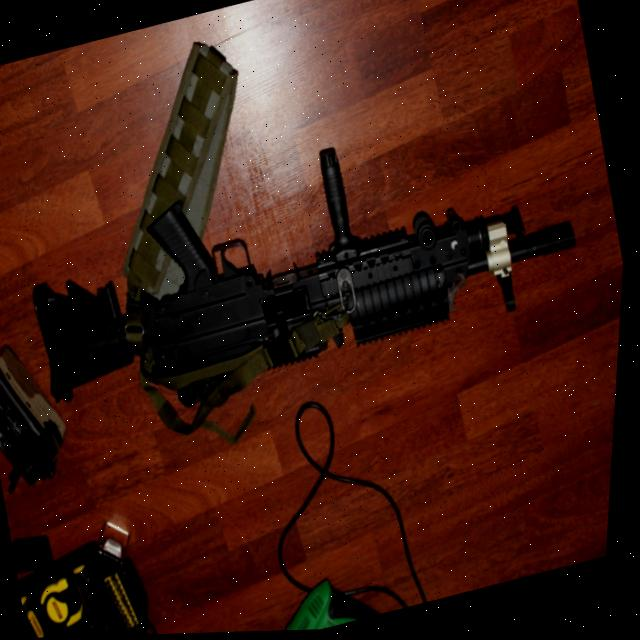firearm: (17, 96, 596, 431)
